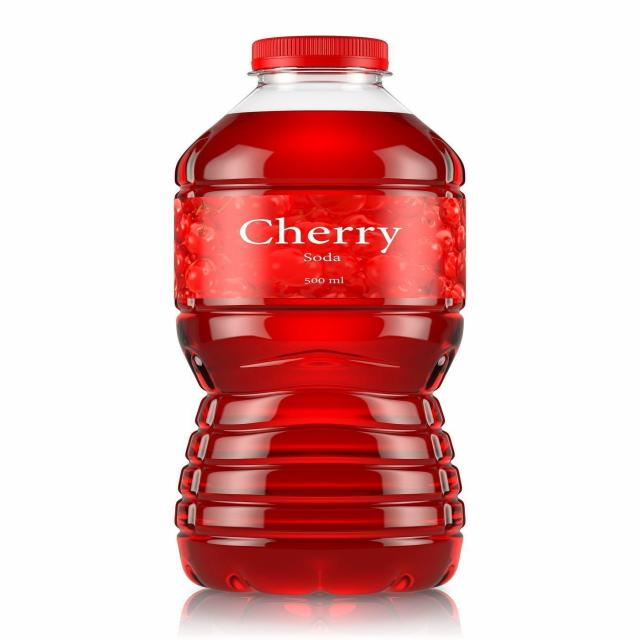bottle-plastic: (168, 32, 473, 600)
